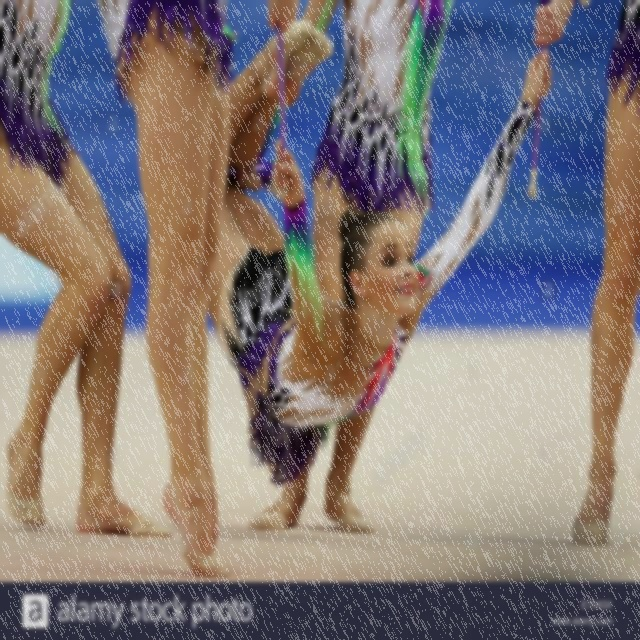pessoa: (205, 16, 554, 491), (100, 0, 302, 576), (246, 0, 458, 537), (0, 0, 180, 545), (572, 0, 640, 542)
